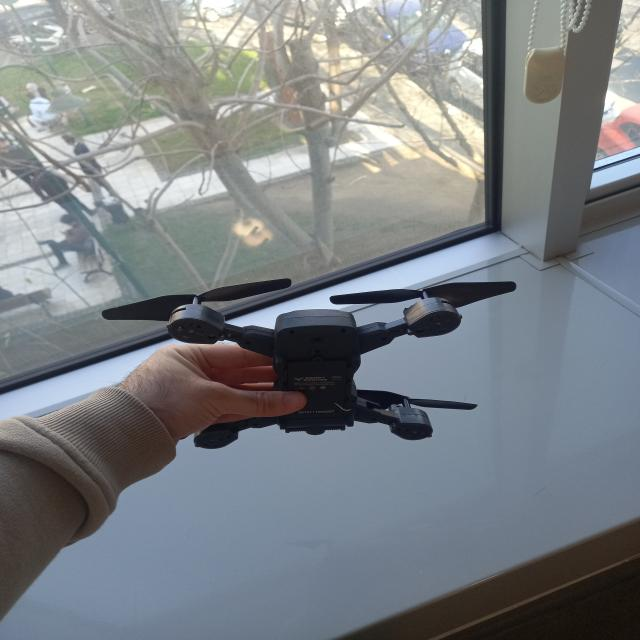drones: (92, 272, 522, 437)
